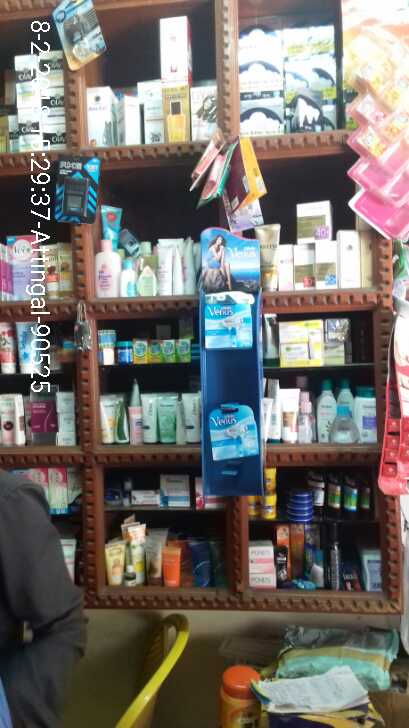venus: (199, 291, 254, 355), (207, 403, 260, 462)
